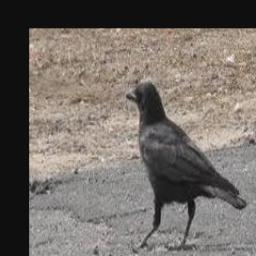Crow: (126, 81, 248, 253)
